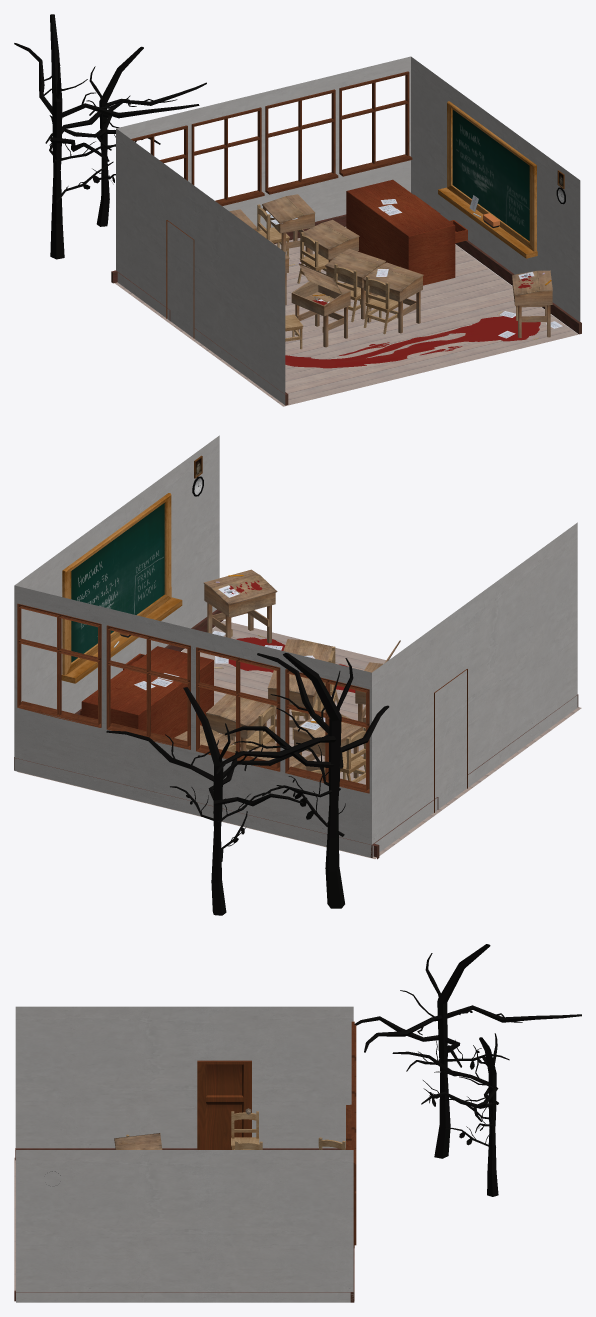
The model's file is classroom_scene.obj.
3 views of the same model, one above another, from view 1: azimuth 30°, elevation 25°; view 2: azimuth 150°, elevation 25°; view 3: azimuth 270°, elevation 25° (orthographic). The views are drawn at different scales.
Visible parts, largest first — view 1: obj11, obj6, obj13, obj75, obj1, obj4, obj2, obj9, obj27, obj10, obj7, obj21 (+15 smaller); view 2: obj11, obj13, obj1, obj75, obj6, obj2, obj10, obj9, obj7, obj29, obj8, obj17 (+6 smaller); view 3: obj11, obj1, obj80, obj2, obj26, obj37, obj10.
Part boxes in pixels (x1=…): obj11: x1=116, y1=56, x2=580, y2=404; obj6: x1=114, y1=226, x2=578, y2=406; obj13: x1=438, y1=101, x2=537, y2=258; obj75: x1=346, y1=179, x2=467, y2=285; obj1: x1=14, y1=14, x2=199, y2=259; obj4: x1=285, y1=316, x2=540, y2=368; obj2: x1=45, y1=46, x2=206, y2=226; obj9: x1=265, y1=89, x2=338, y2=194; obj27: x1=291, y1=281, x2=351, y2=347; obj10: x1=339, y1=71, x2=412, y2=176; obj7: x1=191, y1=107, x2=264, y2=206; obj21: x1=363, y1=262, x2=423, y2=333; obj11: x1=14, y1=435, x2=577, y2=857; obj13: x1=61, y1=493, x2=182, y2=683; obj1: x1=216, y1=653, x2=389, y2=908; obj75: x1=80, y1=646, x2=213, y2=737; obj6: x1=17, y1=620, x2=581, y2=858; obj2: x1=106, y1=687, x2=329, y2=915; obj10: x1=17, y1=603, x2=101, y2=727; obj9: x1=106, y1=625, x2=190, y2=749; obj7: x1=196, y1=647, x2=280, y2=771; obj29: x1=203, y1=569, x2=275, y2=643; obj8: x1=285, y1=669, x2=369, y2=793; obj17: x1=206, y1=694, x2=270, y2=751; obj11: x1=15, y1=1006, x2=353, y2=1302; obj1: x1=354, y1=944, x2=581, y2=1158; obj80: x1=197, y1=1060, x2=251, y2=1149; obj2: x1=392, y1=1033, x2=498, y2=1196; obj26: x1=114, y1=1133, x2=162, y2=1149; obj37: x1=231, y1=1111, x2=259, y2=1149; obj10: x1=351, y1=1129, x2=356, y2=1248.
Bounding box in the file's own units: 862 × 584 × 1341.
12 materials, 11 textured.
